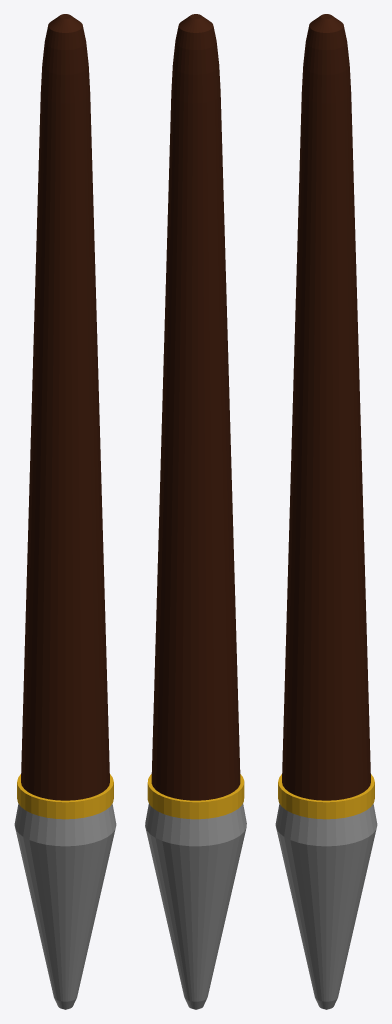
File: Brush.fbx
3 views of the same model, side by side, from view 1: azimuth 90°, elevation 25°; view 2: azimuth 150°, elevation 25°; view 3: azimuth 270°, elevation 25° (orthographic).
Visible parts, largest first — view 1: Cylinder, Cylinder.002, Cylinder.001; view 2: Cylinder, Cylinder.002, Cylinder.001; view 3: Cylinder, Cylinder.002, Cylinder.001.
Part boxes in pixels (left/top/right/bottom): Cylinder: left=21, top=14, right=109, bottom=800; Cylinder.002: left=14, top=803, right=116, bottom=1009; Cylinder.001: left=17, top=774, right=113, bottom=819; Cylinder: left=151, top=14, right=240, bottom=800; Cylinder.002: left=145, top=803, right=246, bottom=1009; Cylinder.001: left=147, top=774, right=244, bottom=819; Cylinder: left=282, top=14, right=370, bottom=800; Cylinder.002: left=275, top=803, right=377, bottom=1009; Cylinder.001: left=278, top=774, right=374, bottom=819.
Bounding box in the file's own units: 227 × 2444 × 227.
